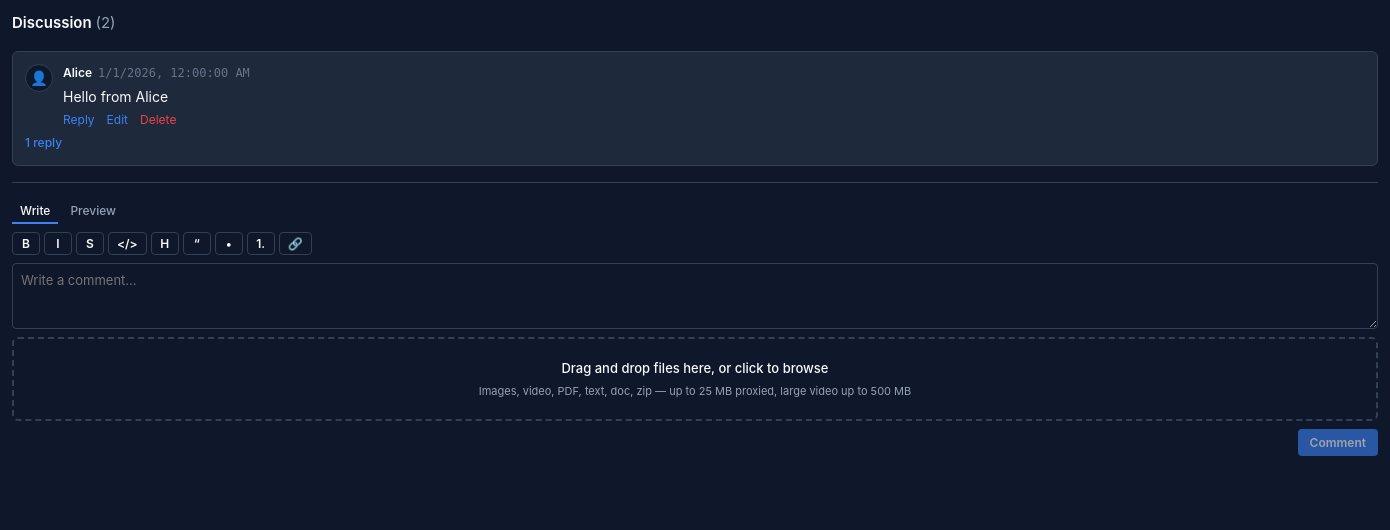
Test case: CommentThread › starts replies collapsed behind a "N replies" expander and reveals them on click
This screenshot has width=1390, height=530.
Expected: the text "Hello from Alice" is shown, 63,88 -> 168,104
Expected: the text "I looked into it." is not shown
Click the button "1 reply": (44, 142) 25,135 -> 62,150
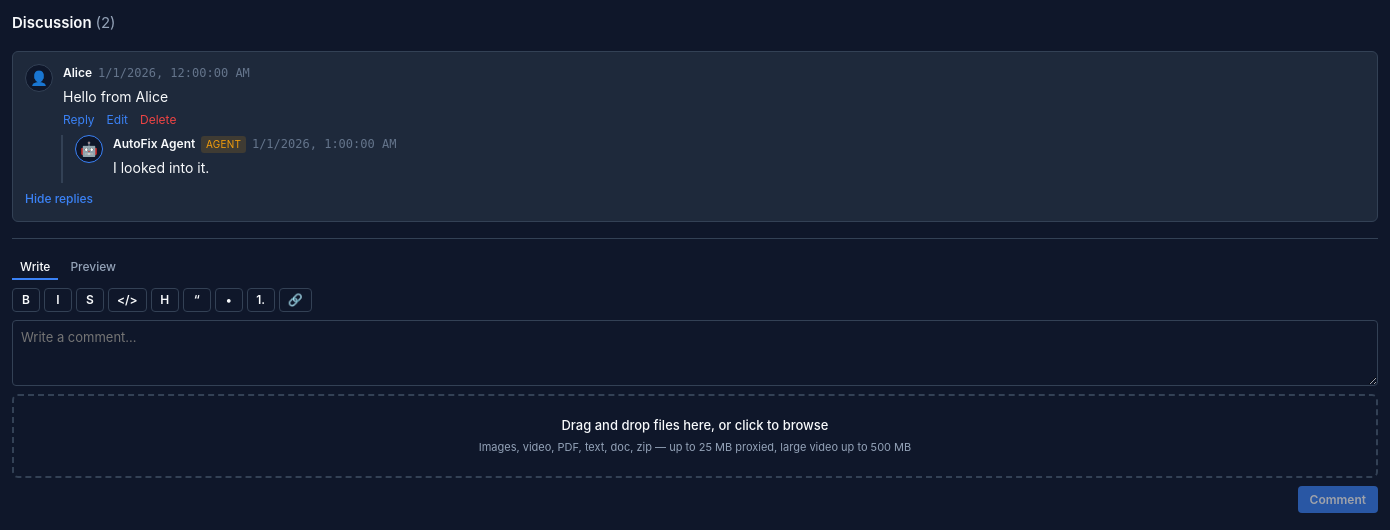
Expected: the text "I looked into it." is shown, 113,159 -> 209,176
Expected: the button "Hide replies" is shown, 25,191 -> 93,206
